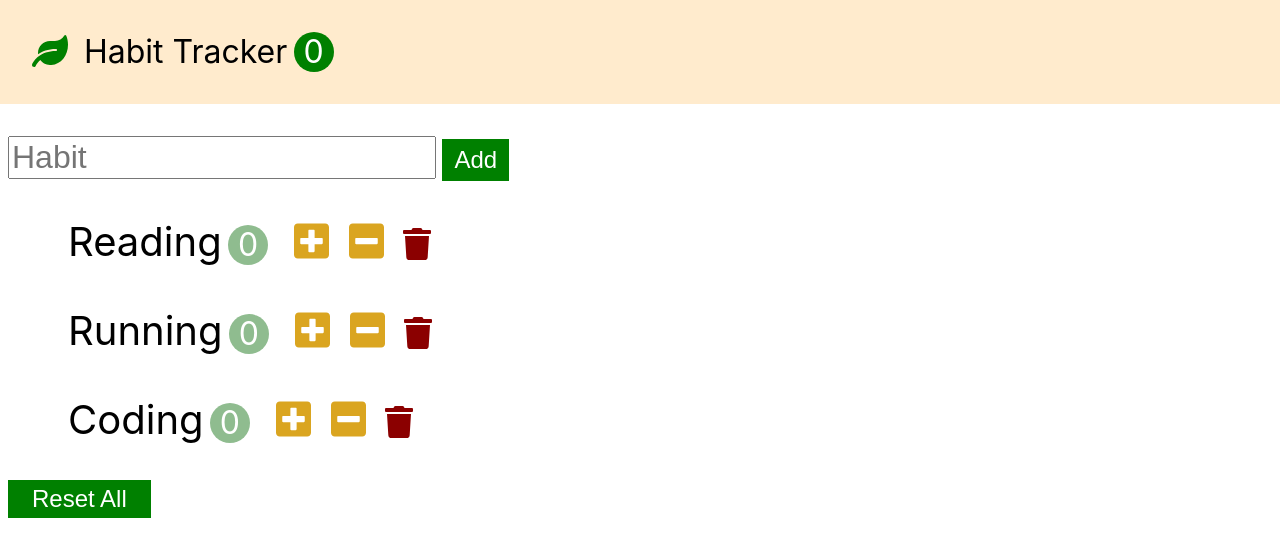
Test: habit-tracker › increases count
Click the button titled "increase" in the row of "Reading" at coordinates (312, 243), box [288, 219, 335, 266]
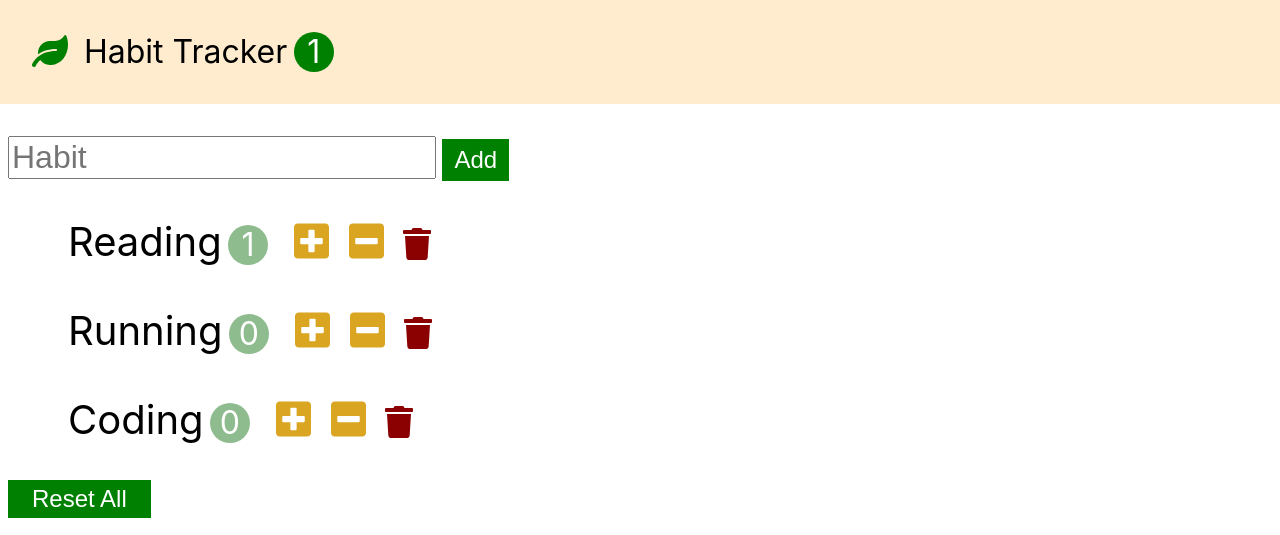
Expected: the text with test id "habit-count" next to "Reading" reads "1", [228, 225, 268, 265]
